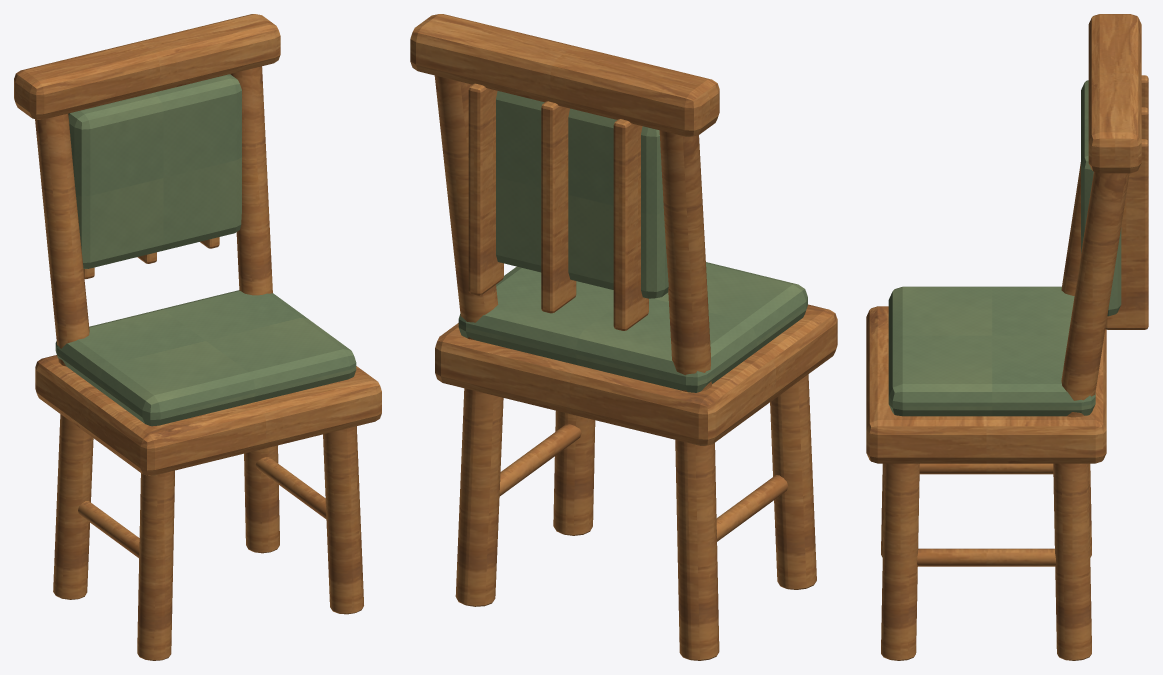
The model's file is WC_CAFE_Chair_A.glb.
The picture shows the model from 3 angles, left to right: view 1: azimuth 30°, elevation 25°; view 2: azimuth 150°, elevation 25°; view 3: azimuth 270°, elevation 25°; orthographic projection. The views are drawn at different scales.
Visible parts, largest first — view 1: WC_CAFE_Chair_A_RenderMesh; view 2: WC_CAFE_Chair_A_RenderMesh; view 3: WC_CAFE_Chair_A_RenderMesh.
Boxes of the visible parts, x1,y1,x2,y2 form: WC_CAFE_Chair_A_RenderMesh: [14, 14, 381, 660]; WC_CAFE_Chair_A_RenderMesh: [410, 14, 837, 660]; WC_CAFE_Chair_A_RenderMesh: [866, 14, 1148, 660].
Bounding box in the file's own units: 0.54 × 1.05 × 0.505.
Materials: 4 (4 with a texture image).
